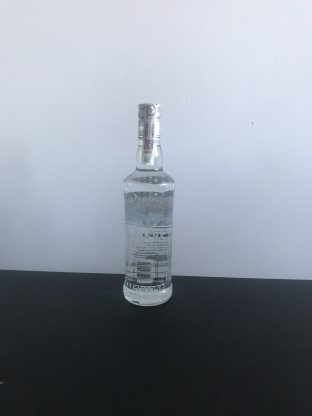nakretka: (135, 100, 163, 142)
